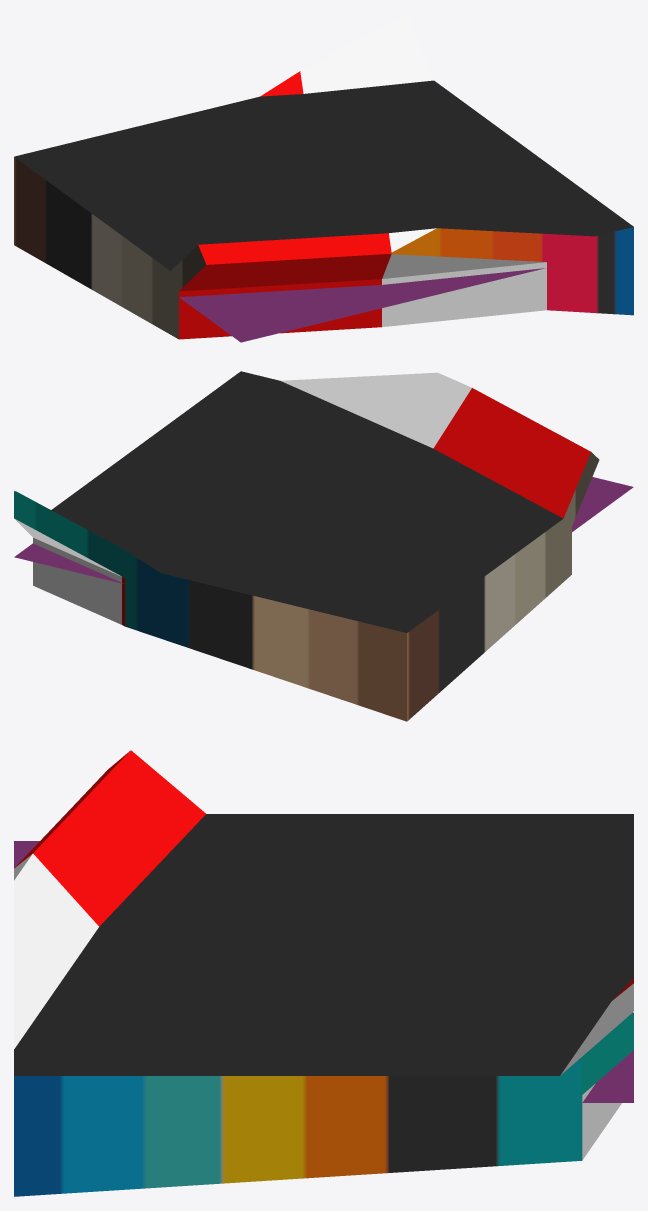
Rendered from tile_4_0_1.gltf.
3 renders of one model, top to bottom at view 1: azimuth 30°, elevation 25°; view 2: azimuth 150°, elevation 25°; view 3: azimuth 270°, elevation 25°, orthographic. The views are drawn at different scales.
Visible parts, largest first — view 1: track.049, Plane; view 2: track.049, Plane; view 3: track.049, Plane.
Boxes of the visible parts, x1,y1,x2,y2 form: track.049: (14,14,633,339); Plane: (179,268,545,342); track.049: (14,371,599,721); Plane: (14,477,633,583); track.049: (14,750,633,1196); Plane: (14,841,633,1102).
Size of the model in its own units: 8 by 2.63 by 8.
1 material, 1 textured.
